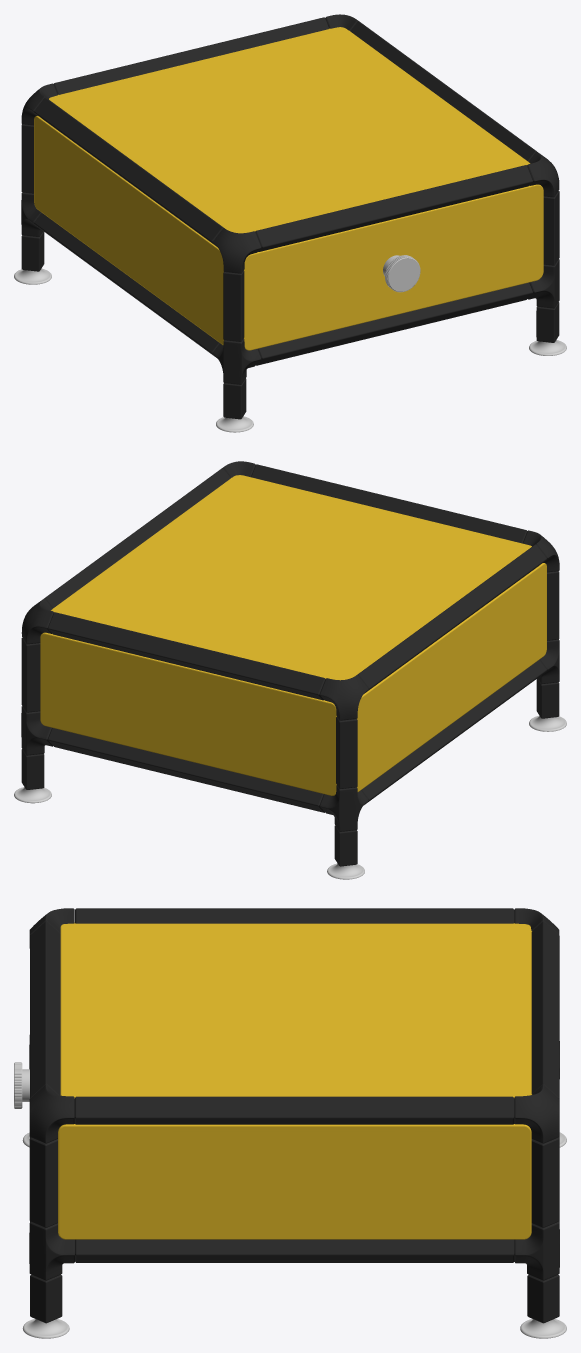
The picture shows the model from 3 angles, top to bottom: view 1: azimuth 30°, elevation 25°; view 2: azimuth 150°, elevation 25°; view 3: azimuth 270°, elevation 25°; orthographic projection. The views are drawn at different scales.
Parts seen in each view (by area): view 1: 329x374x79; view 2: 329x374x79; view 3: 329x374x79.
Part boxes in pixels (x1,y1,x2,y2): 329x374x79: (14, 14, 566, 432); 329x374x79: (14, 461, 566, 879); 329x374x79: (14, 908, 566, 1338).
Bounding box in the file's own units: 0.4189 × 0.2183 × 0.4707.
